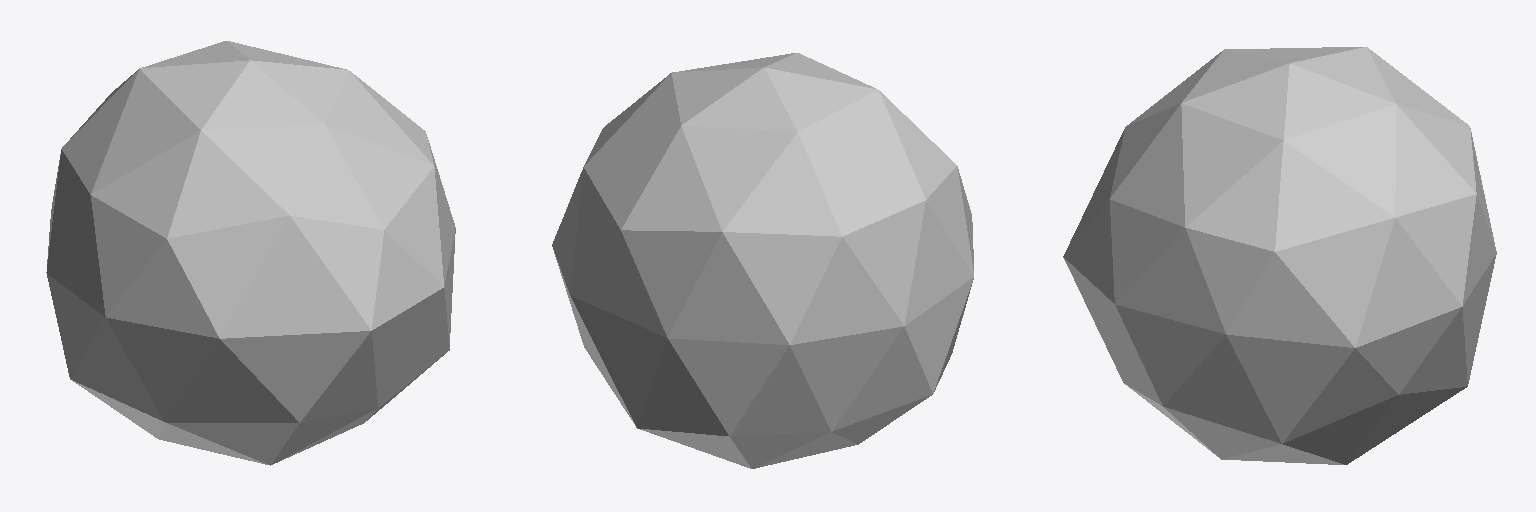
File: paperball3.obj
The picture shows the model from 3 angles: view 1: azimuth 30°, elevation 25°; view 2: azimuth 150°, elevation 25°; view 3: azimuth 270°, elevation 25°; orthographic projection.
Visible parts, largest first — view 1: Icosphere; view 2: Icosphere; view 3: Icosphere.
Part boxes in pixels (left/top/right/bottom): Icosphere: left=46, top=41, right=455, bottom=465; Icosphere: left=552, top=53, right=973, bottom=468; Icosphere: left=1063, top=47, right=1496, bottom=464.
Bounding box in the file's own units: 1.92 × 1.98 × 2.02.